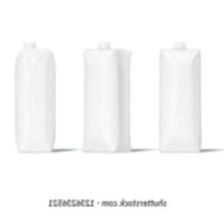carton: (79, 36, 138, 153), (154, 40, 207, 154), (10, 39, 58, 157)
